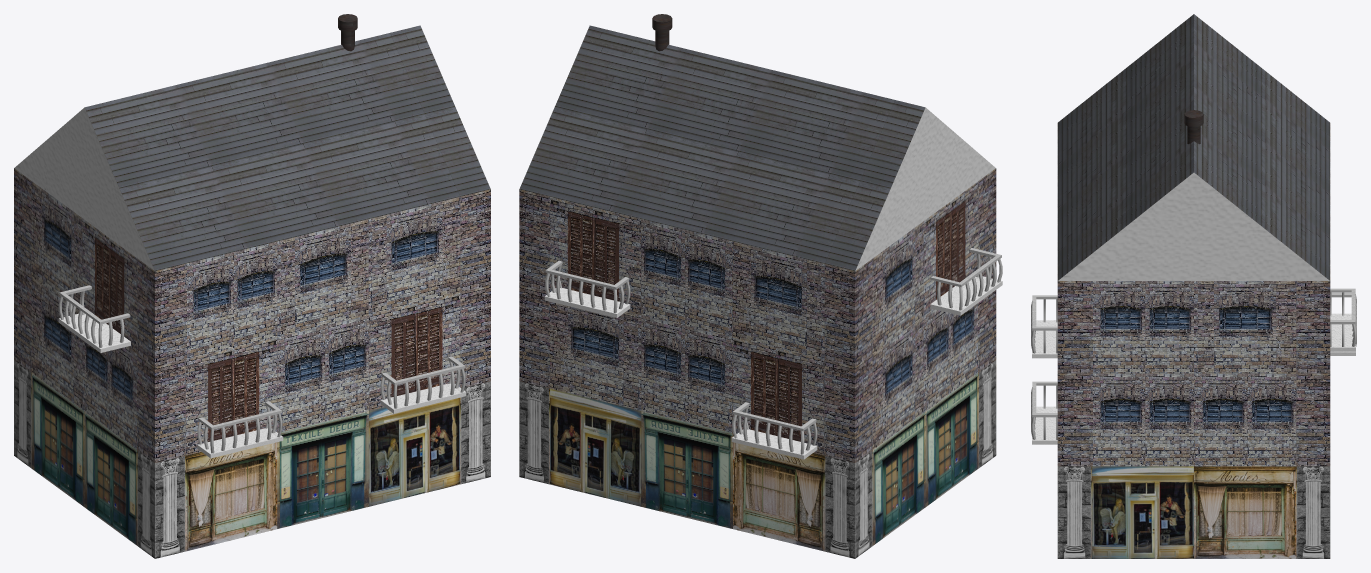
The model's file is House_005.dae.
3 renders of one model, left to right at view 1: azimuth 30°, elevation 25°; view 2: azimuth 150°, elevation 25°; view 3: azimuth 270°, elevation 25°, orthographic. The views are drawn at different scales.
Parts seen in each view (by area): view 1: House_005; view 2: House_005; view 3: House_005.
Part boxes in pixels (bbox=[...]): House_005: bbox=[14, 14, 490, 558]; House_005: bbox=[519, 14, 1002, 558]; House_005: bbox=[1031, 14, 1356, 558].
Bounding box in the file's own units: 96.27 × 76.54 × 106.
